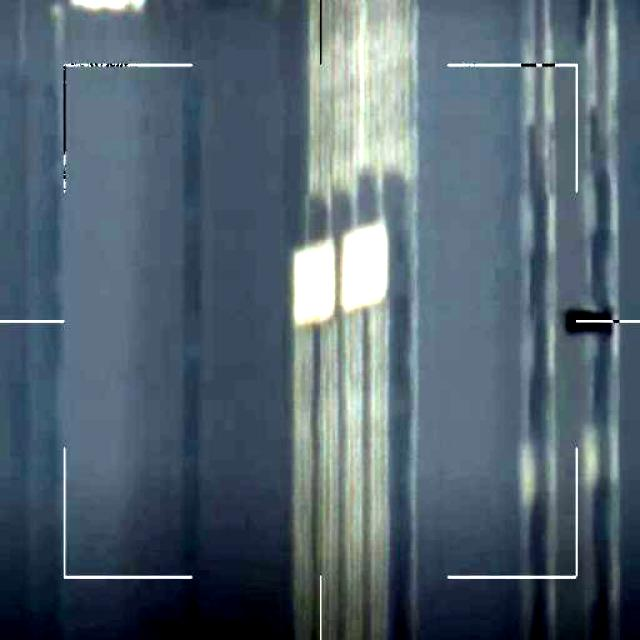bird: (564, 311, 614, 335)
